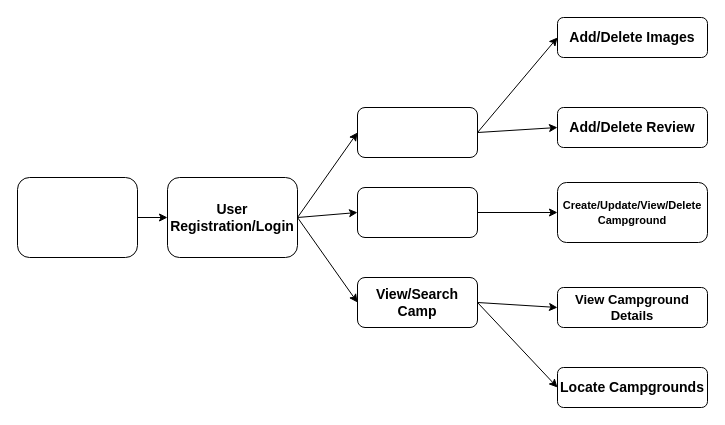
The diagram is 725 pixels wide and 425 high, and some of its shapes have lost their labels. Each missing label, with the box of its shape:
Add Review/Image: (356, 106, 478, 158)
Create/Manage Campground: (356, 186, 478, 238)
User Visits Websites: (16, 176, 138, 258)
